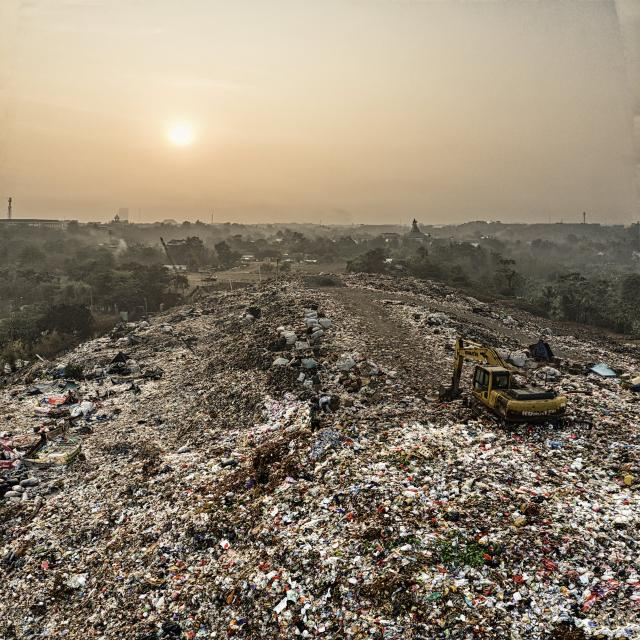trash: (143, 323, 527, 592)
